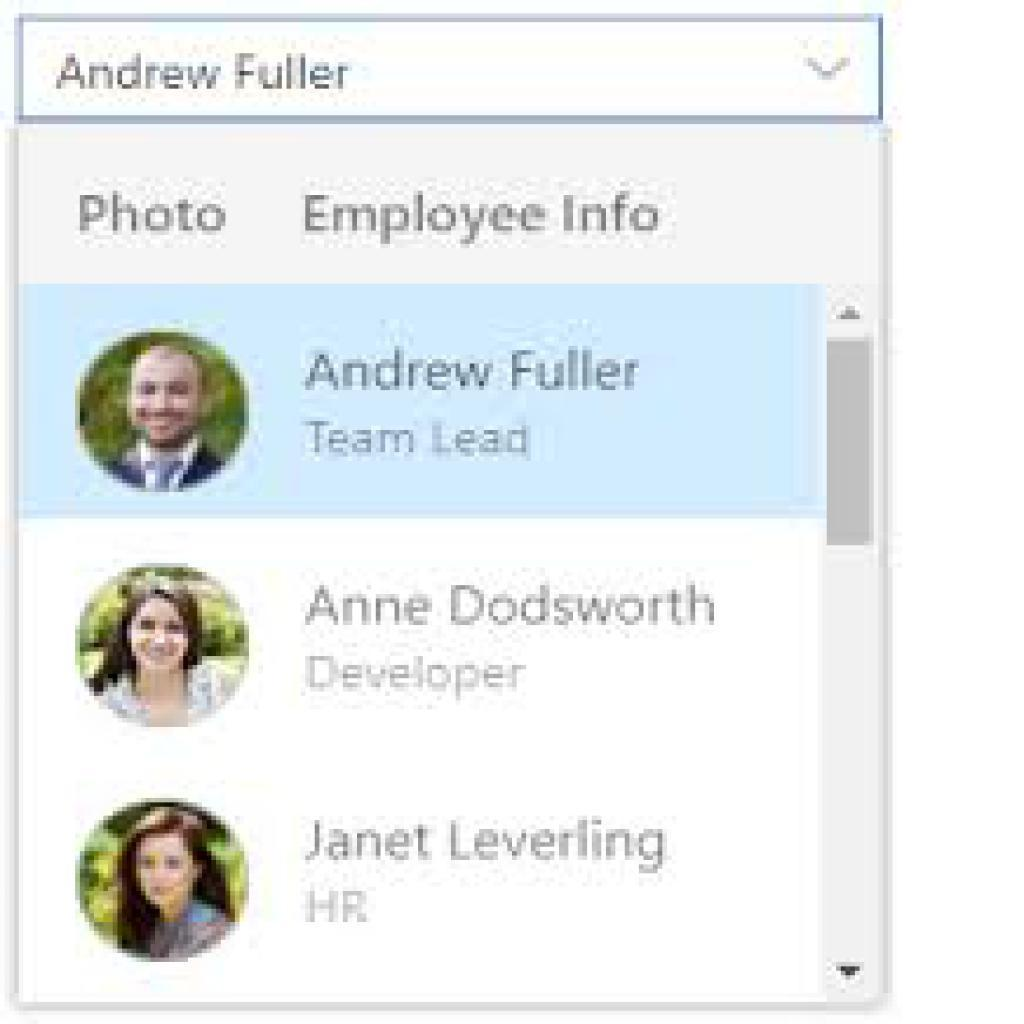button: (18, 281, 822, 518)
dropdown: (16, 16, 883, 125)
